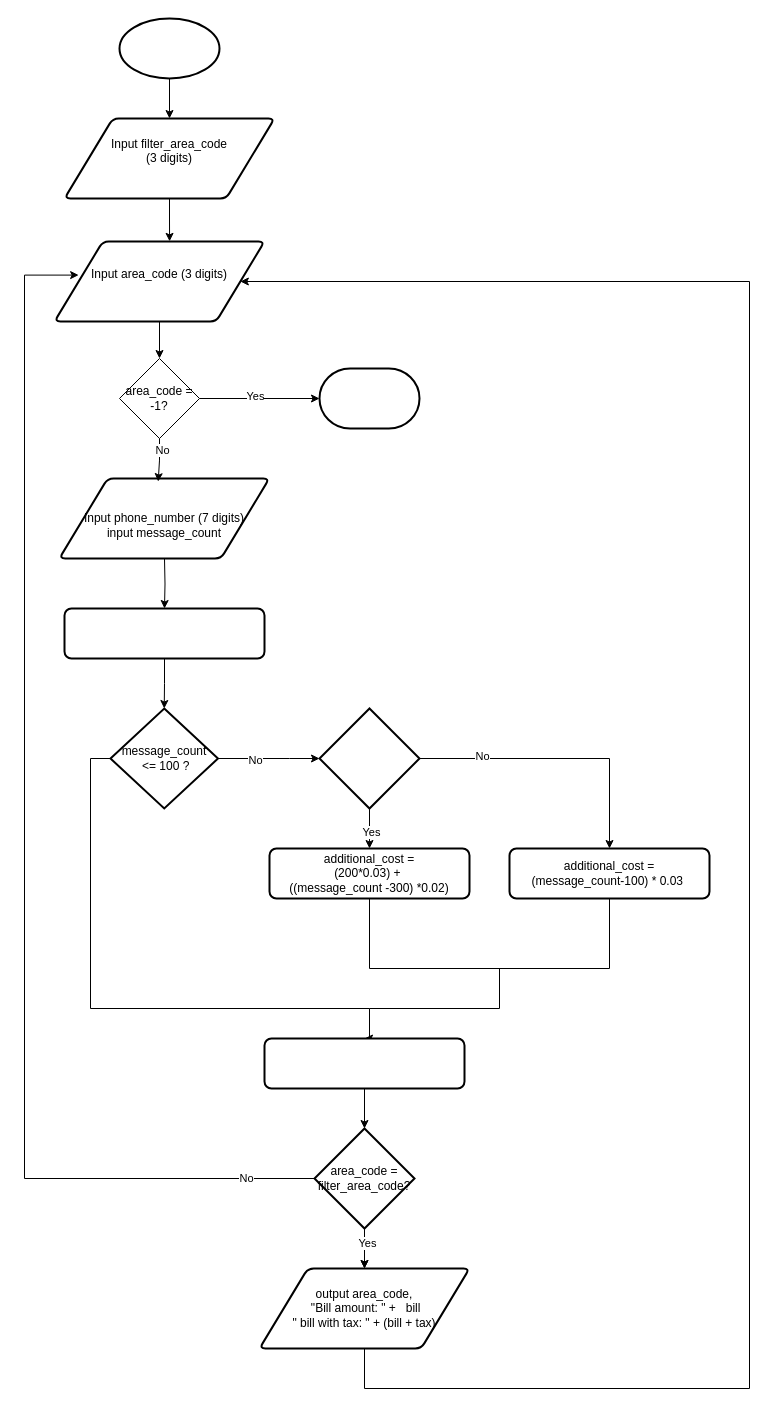
Image size: 775x1414. Some labels were removed from this diagram. The centre of each missing label's shape, as x and y in pixels:
"base_rate = 5.00 additional_costs = 0" belongs at point 164,633.
"bill = base_rate + additional_cost tax = bill * 0.14" belongs at point 364,1063.
"End" belongs at point 369,398.
"message_count > 300 ?" belongs at point 369,758.
"Start" belongs at point 169,48.
